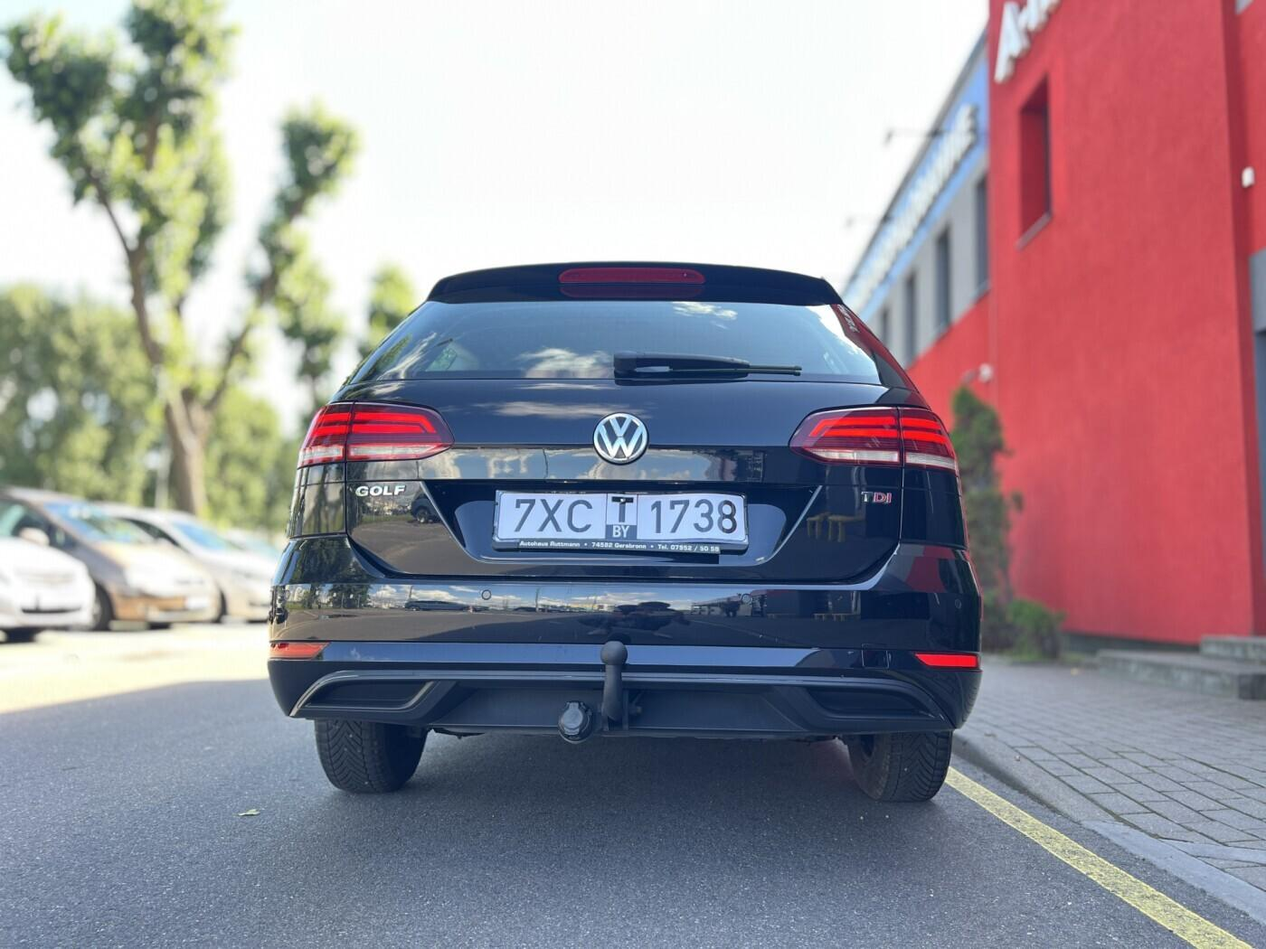Golf_2017-2021: (264, 253, 987, 801)
